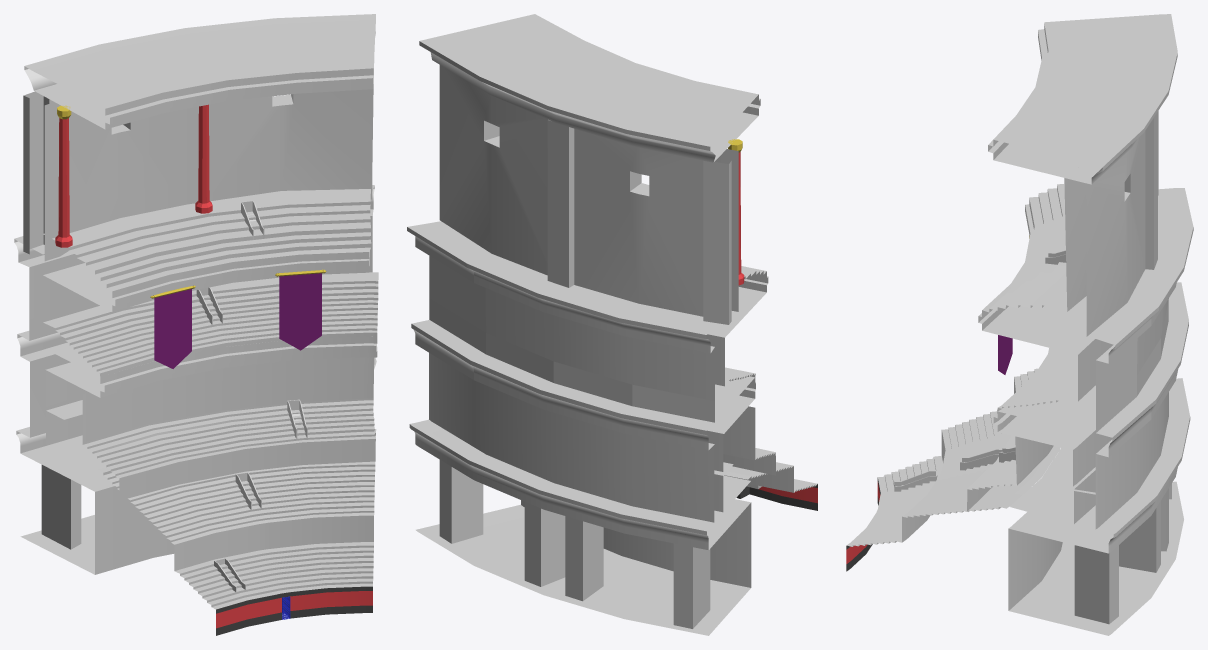
Rendered from test_wall.fbx.
3 renders of one model, left to right at view 1: azimuth 30°, elevation 25°; view 2: azimuth 150°, elevation 25°; view 3: azimuth 270°, elevation 25°, orthographic. The views are drawn at different scales.
Parts seen in each view (by area): view 1: real, big_flag, pillow4, test.004; view 2: real, pillow4; view 3: real, test.004, big_flag.
Part boxes in pixels (x1=…): real: x1=14, y1=14, x2=378, y2=635; big_flag: x1=150, y1=269, x2=326, y2=368; pillow4: x1=55, y1=104, x2=212, y2=247; test.004: x1=196, y1=200, x2=307, y2=591; real: x1=407, y1=14, x2=817, y2=635; pillow4: x1=728, y1=139, x2=744, y2=285; real: x1=846, y1=14, x2=1193, y2=635; test.004: x1=894, y1=250, x2=1066, y2=491; big_flag: x1=998, y1=235, x2=1029, y2=374.
Bounding box in the file's own units: 6573 × 8940 × 6004.
